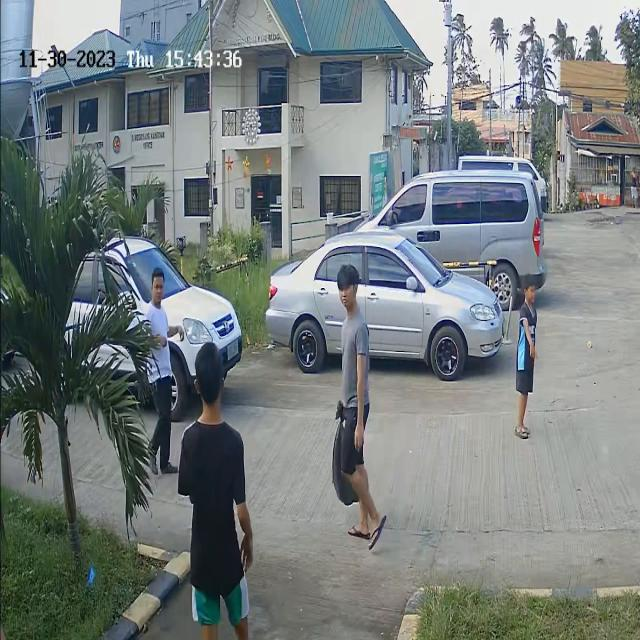person: (332, 266, 376, 412), (187, 345, 230, 477), (513, 277, 541, 434), (144, 261, 174, 368)
